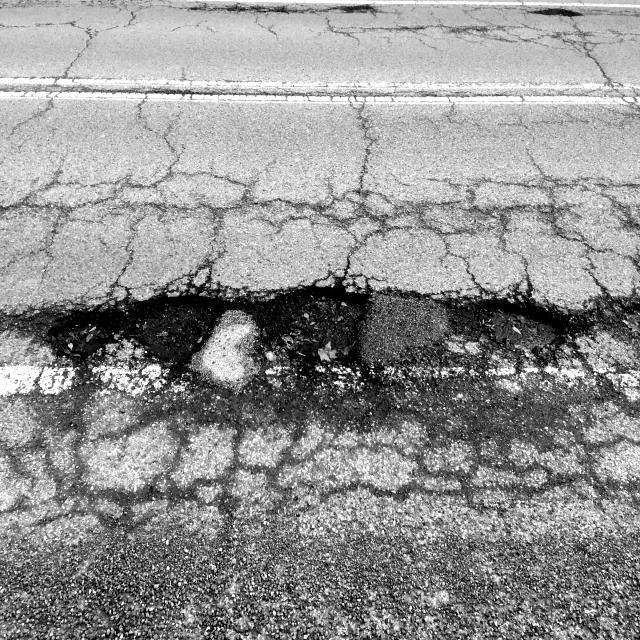pathole: (0, 290, 640, 378)
